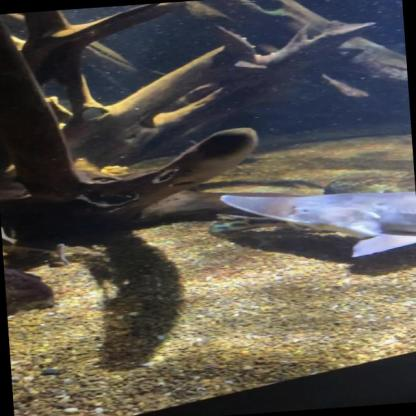shark: (217, 179, 415, 269)
